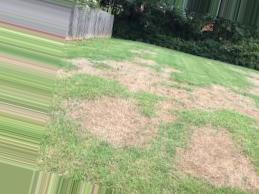patch: (192, 125, 254, 188), (82, 99, 143, 143), (105, 58, 172, 96), (189, 85, 254, 114)
